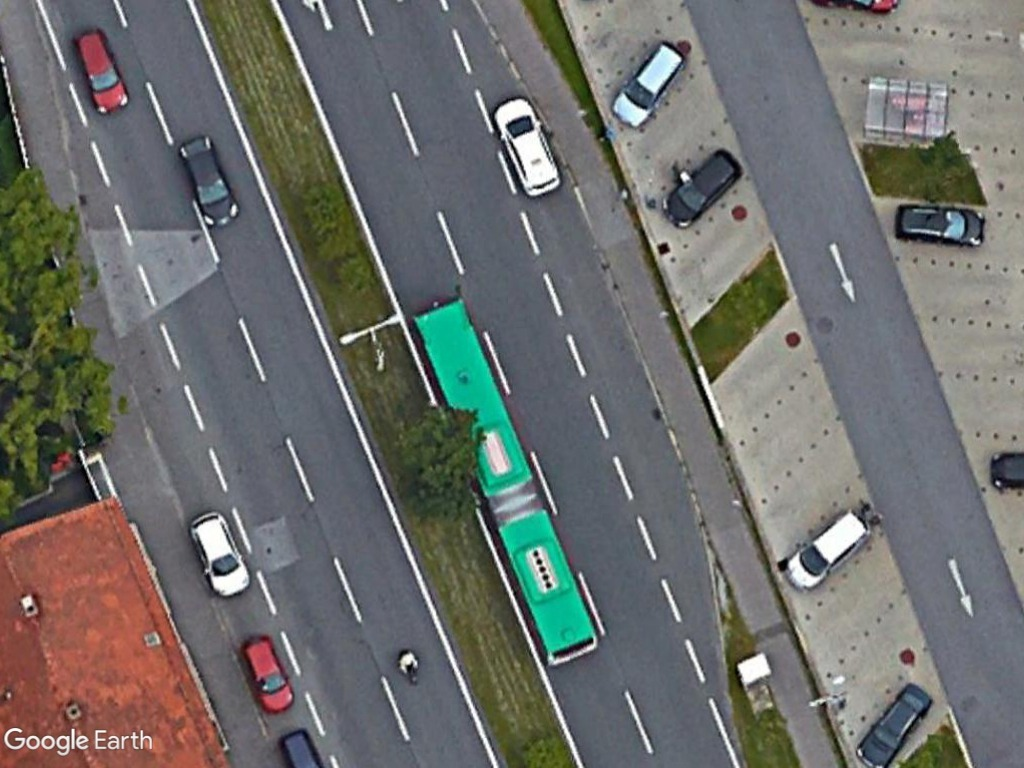bus: (410, 294, 537, 508), (492, 499, 606, 670)
car: (486, 91, 565, 202), (606, 33, 690, 135), (780, 503, 870, 594), (655, 146, 742, 232), (850, 681, 933, 768), (182, 506, 254, 603), (175, 132, 242, 232), (67, 23, 135, 116), (891, 197, 996, 252), (238, 630, 299, 719)
